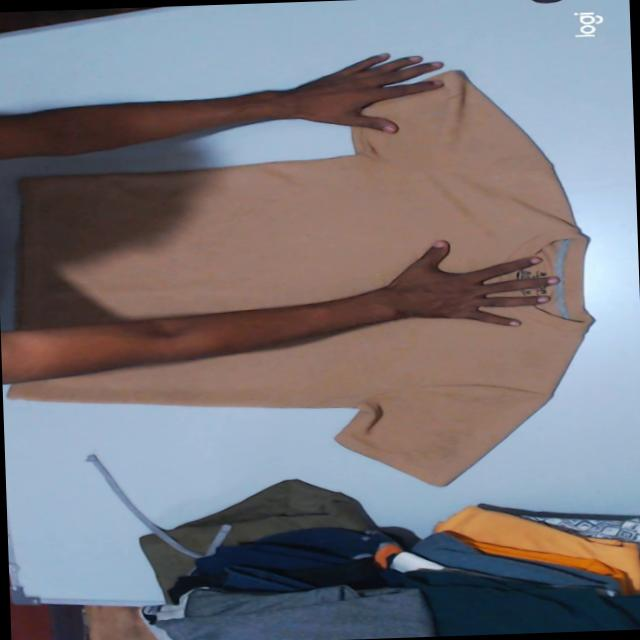new-garment: (9, 70, 591, 484)
